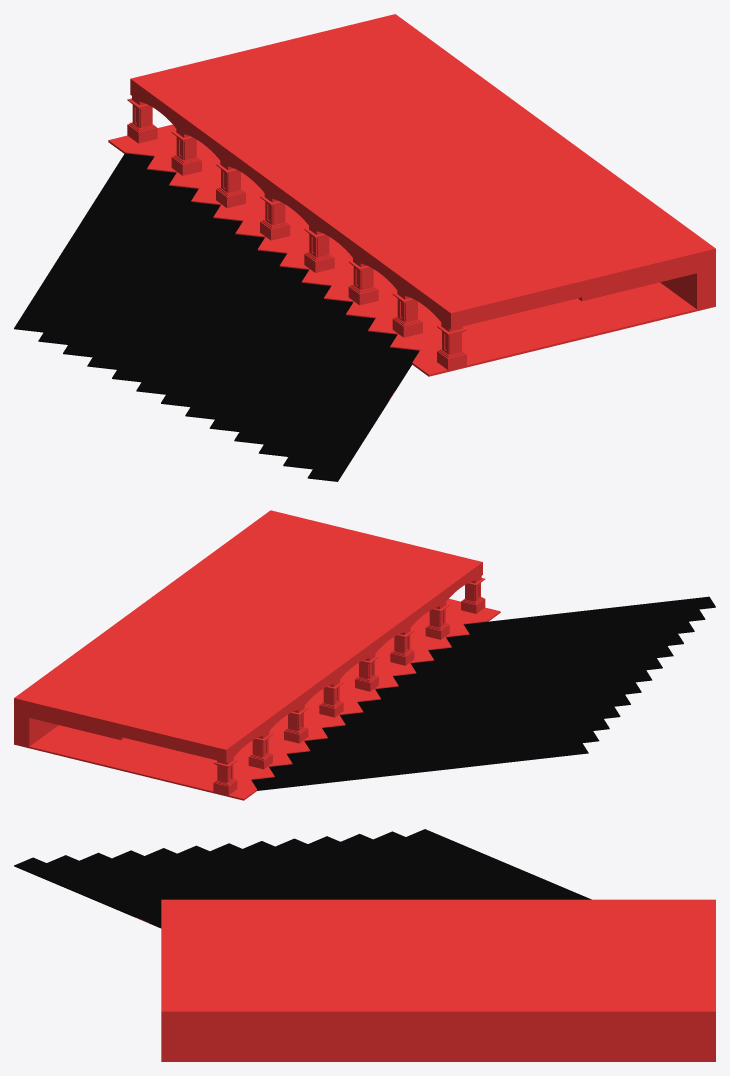
File: 大型公車站.FBX
3 renders of one model, top to bottom at view 1: azimuth 30°, elevation 25°; view 2: azimuth 150°, elevation 25°; view 3: azimuth 270°, elevation 25°, orthographic. The views are drawn at different scales.
Parts seen in each view (by area): view 1: Box042; view 2: Box042; view 3: Box042.
Part boxes in pixels (<box>): Box042: <box>14,14,715,481</box>; Box042: <box>14,510,715,800</box>; Box042: <box>14,829,715,1061</box>.
Size of the model in its own units: 2871 by 290 by 3669.
